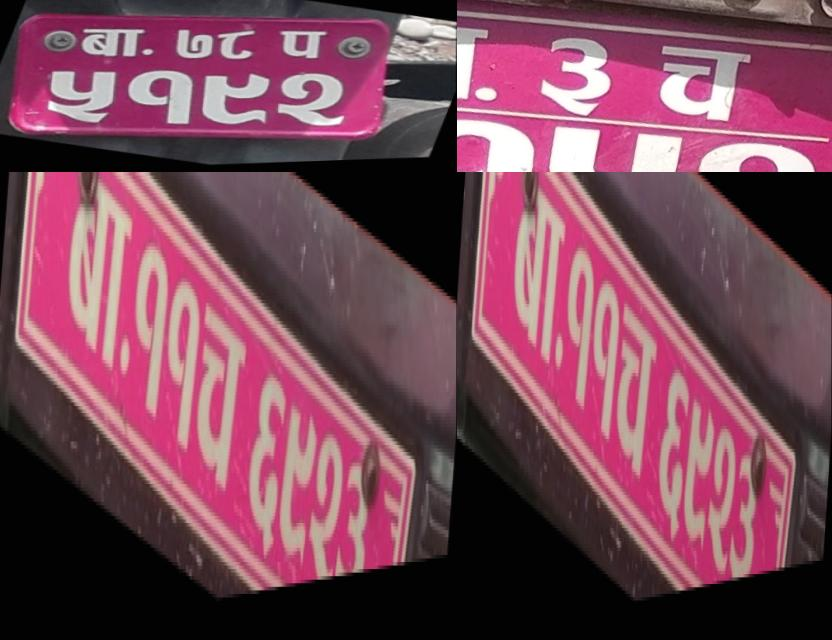1: (124, 219, 174, 453), (159, 252, 204, 474), (586, 248, 624, 472), (559, 225, 598, 443), (457, 93, 553, 172), (113, 60, 209, 136)
2: (304, 408, 347, 594), (672, 123, 832, 172), (266, 68, 366, 138), (704, 413, 738, 598)
3: (523, 27, 629, 130), (332, 442, 375, 590), (726, 436, 762, 594)
5: (518, 103, 699, 172), (24, 59, 126, 130)
6: (242, 350, 290, 592), (652, 342, 692, 574)
7: (165, 25, 221, 67)
8: (209, 24, 268, 69)
9: (273, 369, 321, 599), (184, 62, 286, 136), (681, 378, 715, 585)
ba: (60, 172, 136, 408), (506, 172, 568, 404), (457, 0, 518, 128), (67, 18, 157, 70)
cha: (189, 282, 250, 532), (637, 31, 757, 143), (612, 282, 660, 514)
pa: (266, 22, 340, 72)
